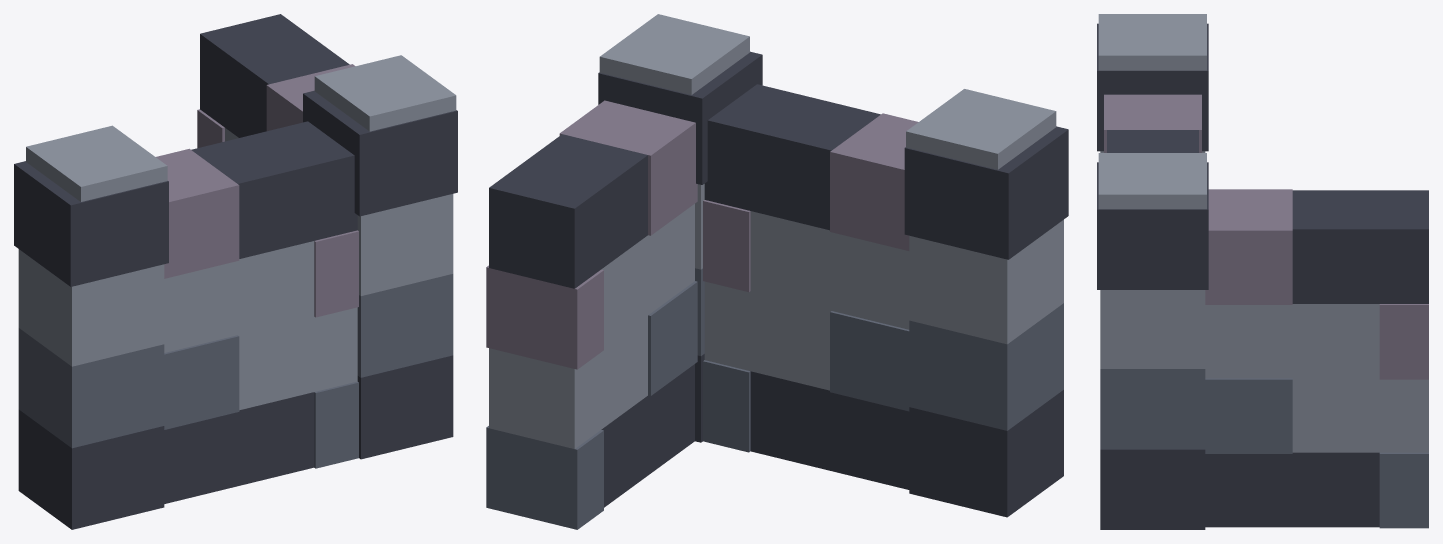
The model's file is TW_STONE_CORNER_L90_B_LOD0.glb.
3 views of the same model, side by side, from view 1: azimuth 30°, elevation 25°; view 2: azimuth 150°, elevation 25°; view 3: azimuth 270°, elevation 25° (orthographic). The views are drawn at different scales.
Parts seen in each view (by area): view 1: TW_STONE_CORNER_L90_B_LOD0; view 2: TW_STONE_CORNER_L90_B_LOD0; view 3: TW_STONE_CORNER_L90_B_LOD0.
Part boxes in pixels (x1,y1,x2,y2): TW_STONE_CORNER_L90_B_LOD0: [14, 14, 457, 529]; TW_STONE_CORNER_L90_B_LOD0: [486, 14, 1068, 529]; TW_STONE_CORNER_L90_B_LOD0: [1097, 14, 1428, 529].
Size of the model in its own units: 1.34 by 1.13 by 1.01.
Materials: 1 (1 with a texture image).
